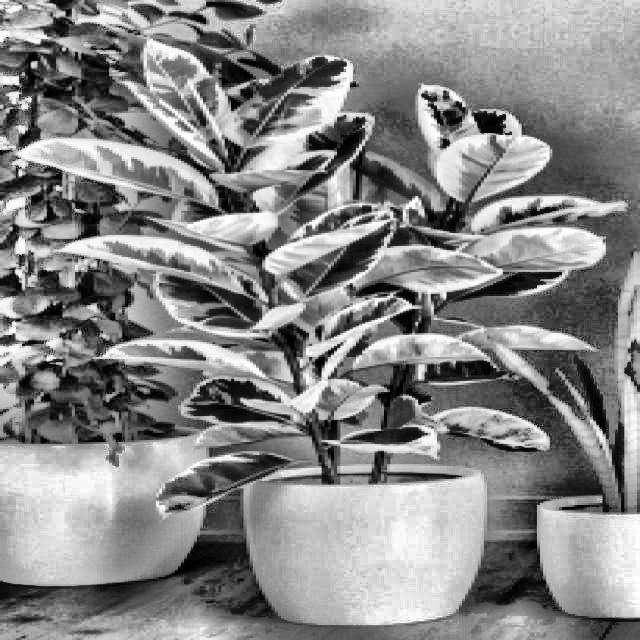plants: (140, 55, 497, 628), (5, 2, 137, 590), (518, 255, 637, 627)
